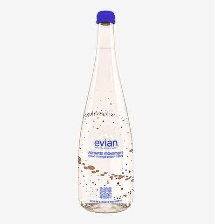bottle: (74, 7, 139, 214)
